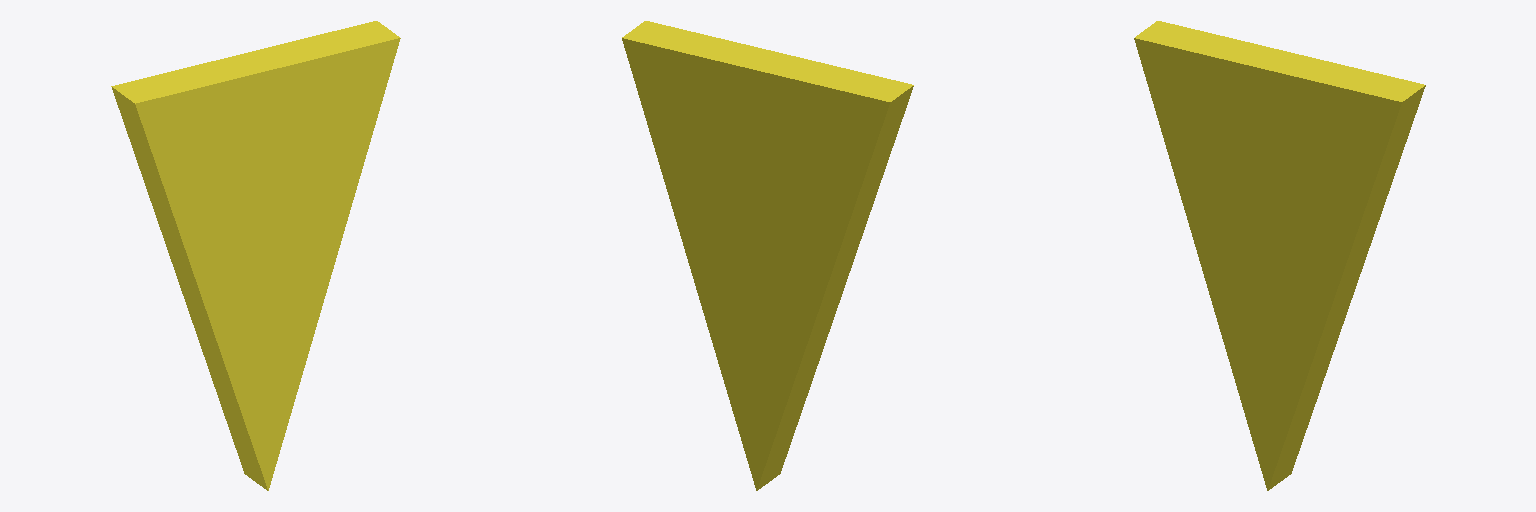
URDF robot description (triangle):
<?xml version="1.0"?>
<robot name="triangle">

  <link name="world0">
  </link>

  <link name="world1">
  </link>

  <link name="world2">
  </link>

  <link name="triangle">
    <visual>
      <origin xyz="0.0 0.0 0.0"/>
      <geometry>
        <mesh filename="EquivDP/triangle.obj" scale="0.1 0.1 0.1"/>
      </geometry>
    </visual>
    <collision>
      <origin xyz="0.0 0.0 0.0"/>
      <geometry>
        <mesh filename="EquivDP/triangle.obj" scale="0.1 0.1 0.1"/>
      </geometry>
    </collision>
    <inertial>
      <mass value="0.068"/>
      <inertia ixx="0.0001" ixy="0.0" ixz="0.0" iyy="0.0001" iyz="0.0" izz="0.0001"/>
    </inertial>
  </link>

  <joint name="trans_x" type="prismatic">
    <parent link="world0"/>
    <child link="world1"/>
    <origin xyz="0.0 0.0 0.0"/>
    <axis xyz="1 0 0"/>
    <limit effort="1000.0" lower="-0.3" upper="0.3" velocity="100"/>
  </joint>

  <joint name="trans_z" type="prismatic">
    <parent link="world1"/>
    <child link="world2"/>
    <origin xyz="0.0 0.0 0.0"/>
    <axis xyz="0 0 1"/>
    <limit effort="1000.0" lower="-0.5" upper="0.5" velocity="100"/>
  </joint>

  <joint name="rot_y" type="revolute">
    <axis xyz="0 1 0"/>
    <origin xyz="0 0 0"/>
    <parent link="world2"/>
    <child link="triangle"/>
    <limit effort="1000.0" velocity="8"/>
  </joint>

</robot>

--- Facts derived from the render (not from the file) ---
3 views of the same robot in one strip: view 1: azimuth 30°, elevation 25°; view 2: azimuth 150°, elevation 25°; view 3: azimuth 330°, elevation 25° (orthographic).
Robot: triangle — 4 links, 3 joints (1 revolute, 2 prismatic); root link world0; default pose: every joint at zero.
Visible links, largest first — view 1: triangle; view 2: triangle; view 3: triangle.
Link boxes in pixels (x1,y1,x2,y2): triangle: (111, 21, 400, 490); triangle: (622, 21, 913, 490); triangle: (1134, 21, 1425, 490).
Bounding box of the posed robot: 0.0997 × 0.0161 × 0.15 m (x, y, z).
1 mesh visuals loaded from 1 distinct referenced files (1 OBJ).